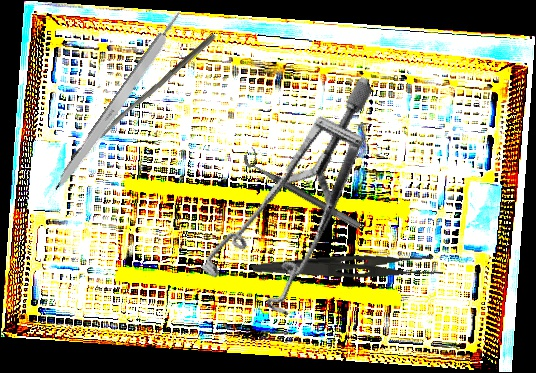Dressing Forceps: (252, 246, 443, 294)
Fixation Ring: (240, 145, 367, 231)
Pusher: (69, 27, 218, 167)
Scalpel Handle: (50, 7, 190, 196)
Speculum: (156, 73, 445, 340)
